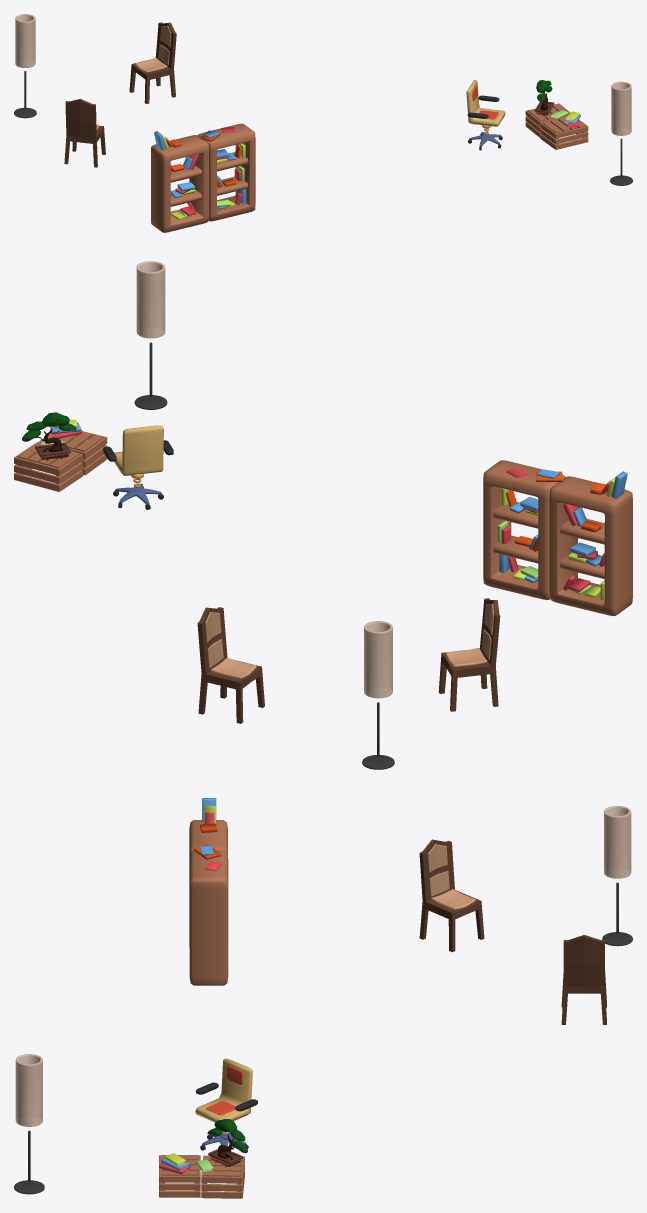
Rendered from 2x2Shape Sampleroom - Deko.glb.
3 renders of one model, top to bottom at view 1: azimuth 30°, elevation 25°; view 2: azimuth 150°, elevation 25°; view 3: azimuth 270°, elevation 25°, orthographic. The views are drawn at different scales.
Visible parts, largest first — view 1: Deko_2x2_Shape; view 2: Deko_2x2_Shape; view 3: Deko_2x2_Shape.
Part boxes in pixels (left/top/right/bottom): Deko_2x2_Shape: left=14, top=14, right=632, bottom=232; Deko_2x2_Shape: left=14, top=261, right=632, bottom=769; Deko_2x2_Shape: left=14, top=798, right=632, bottom=1198.
Size of the model in its own units: 7.98 by 1.75 by 7.62.
Materials: 22 (1 with a texture image).
